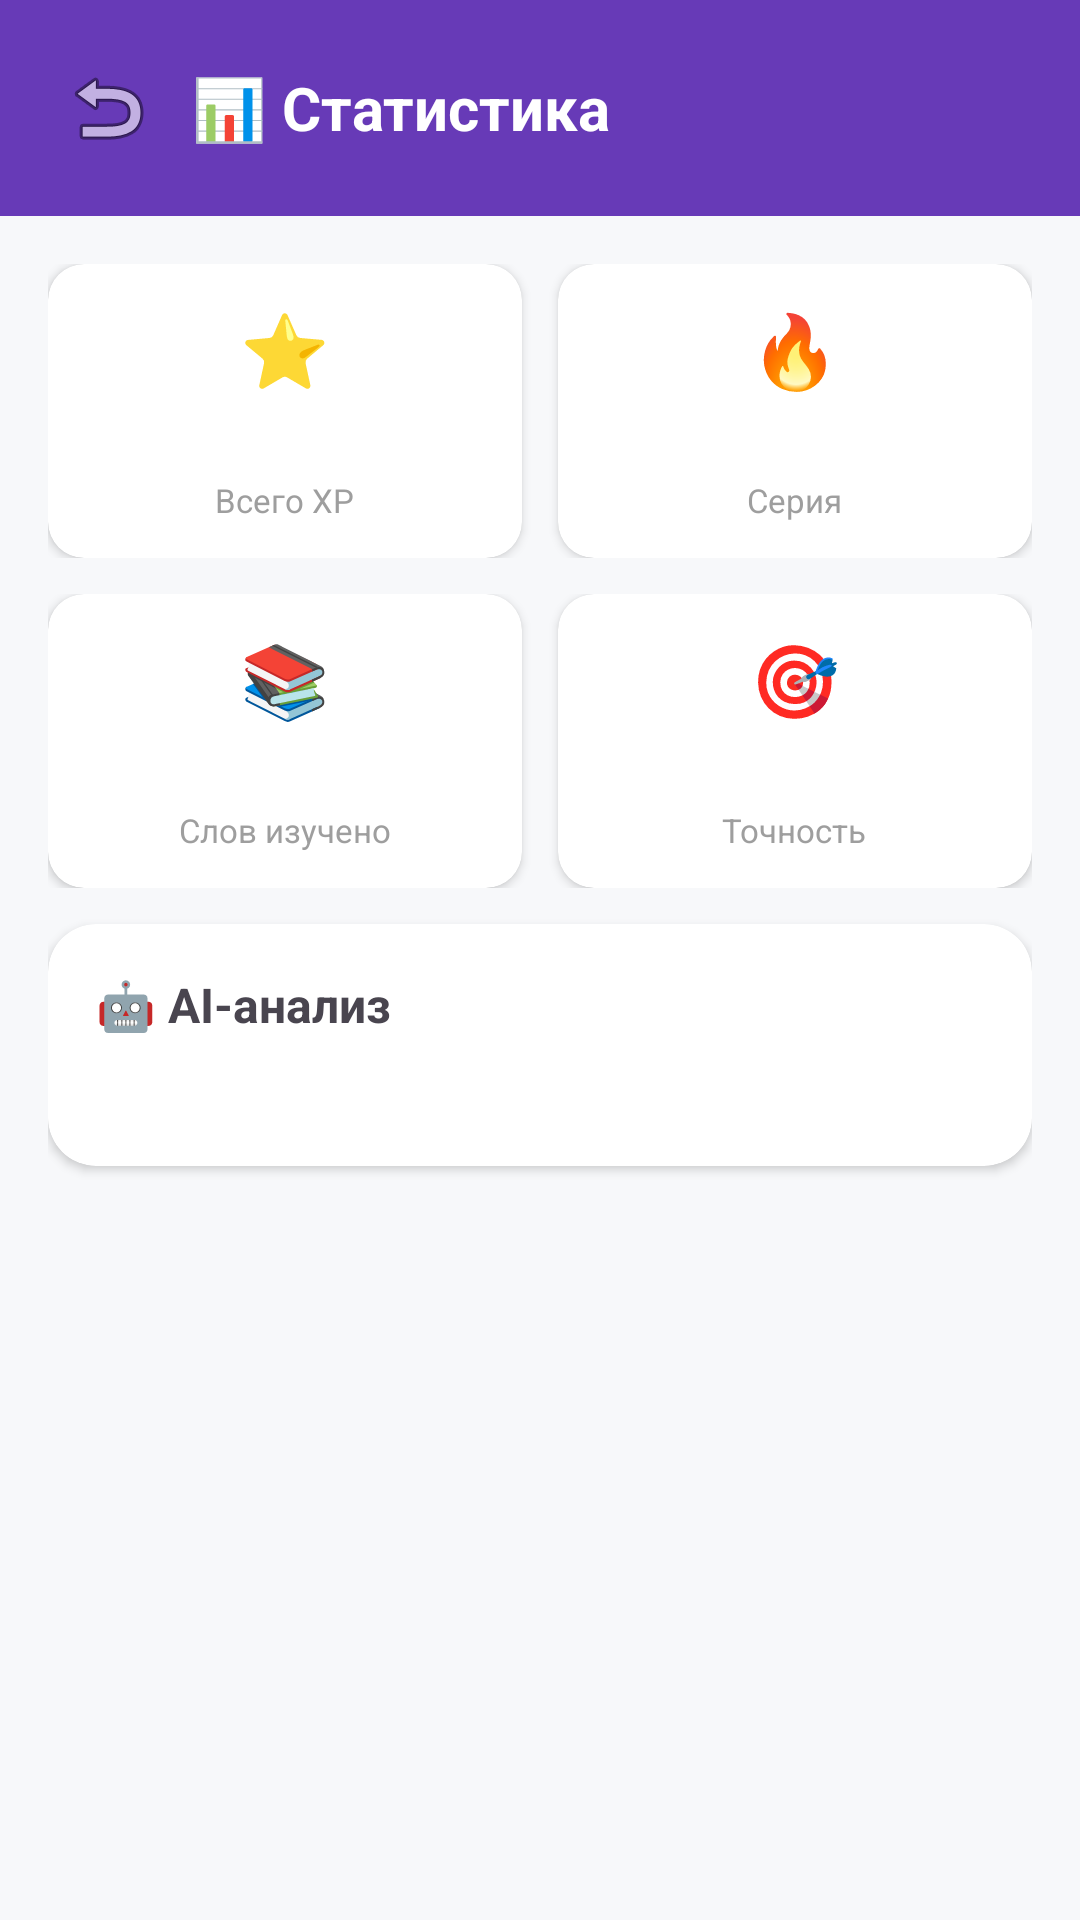

Named icons in this screenshot (1080px×1920px) and their centers, [x,y]:
Назад: [109,108]
